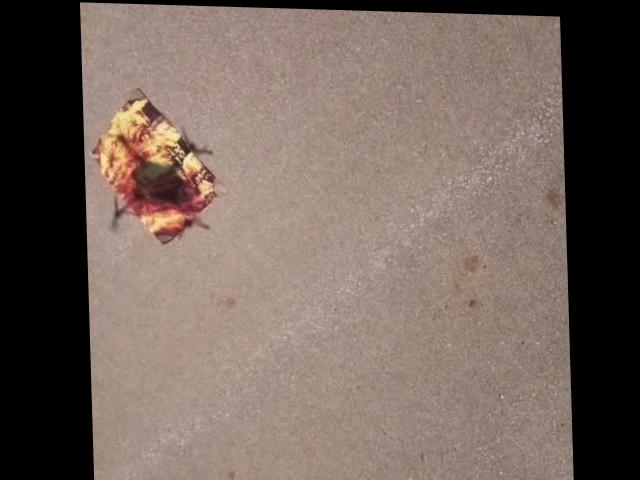fire-poster: (87, 85, 227, 245)
